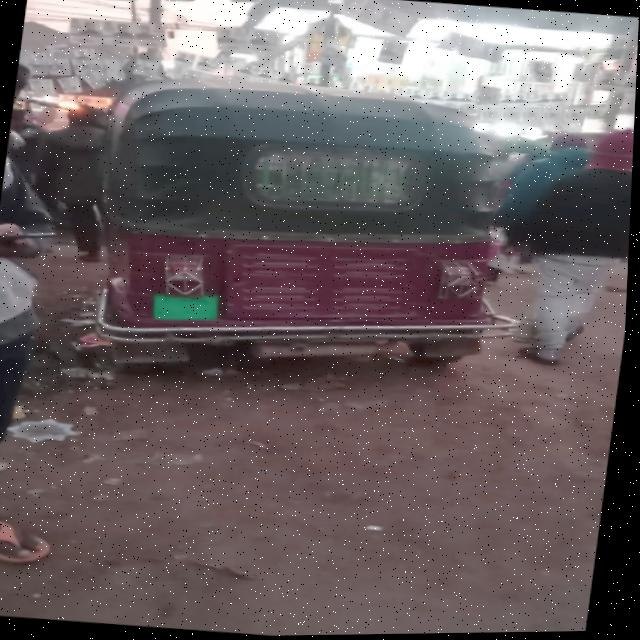cng: (0, 32, 545, 430)
